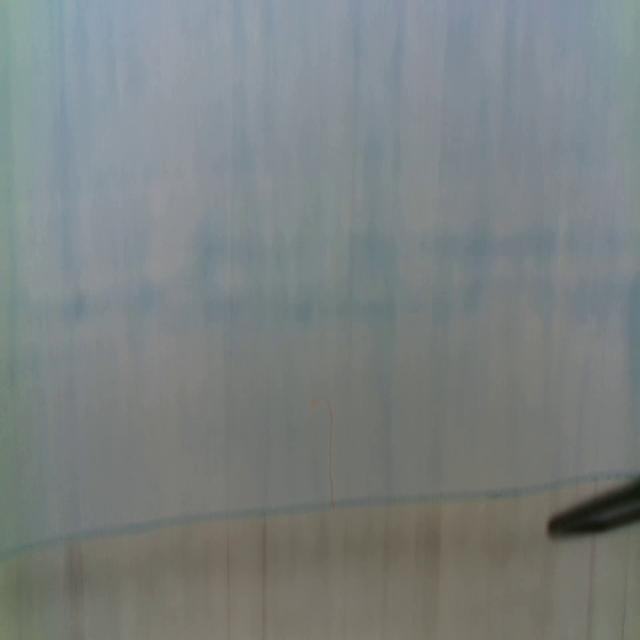color bleeding: (34, 215, 637, 342)
crease: (258, 517, 270, 640), (618, 548, 631, 640), (224, 515, 232, 639)
